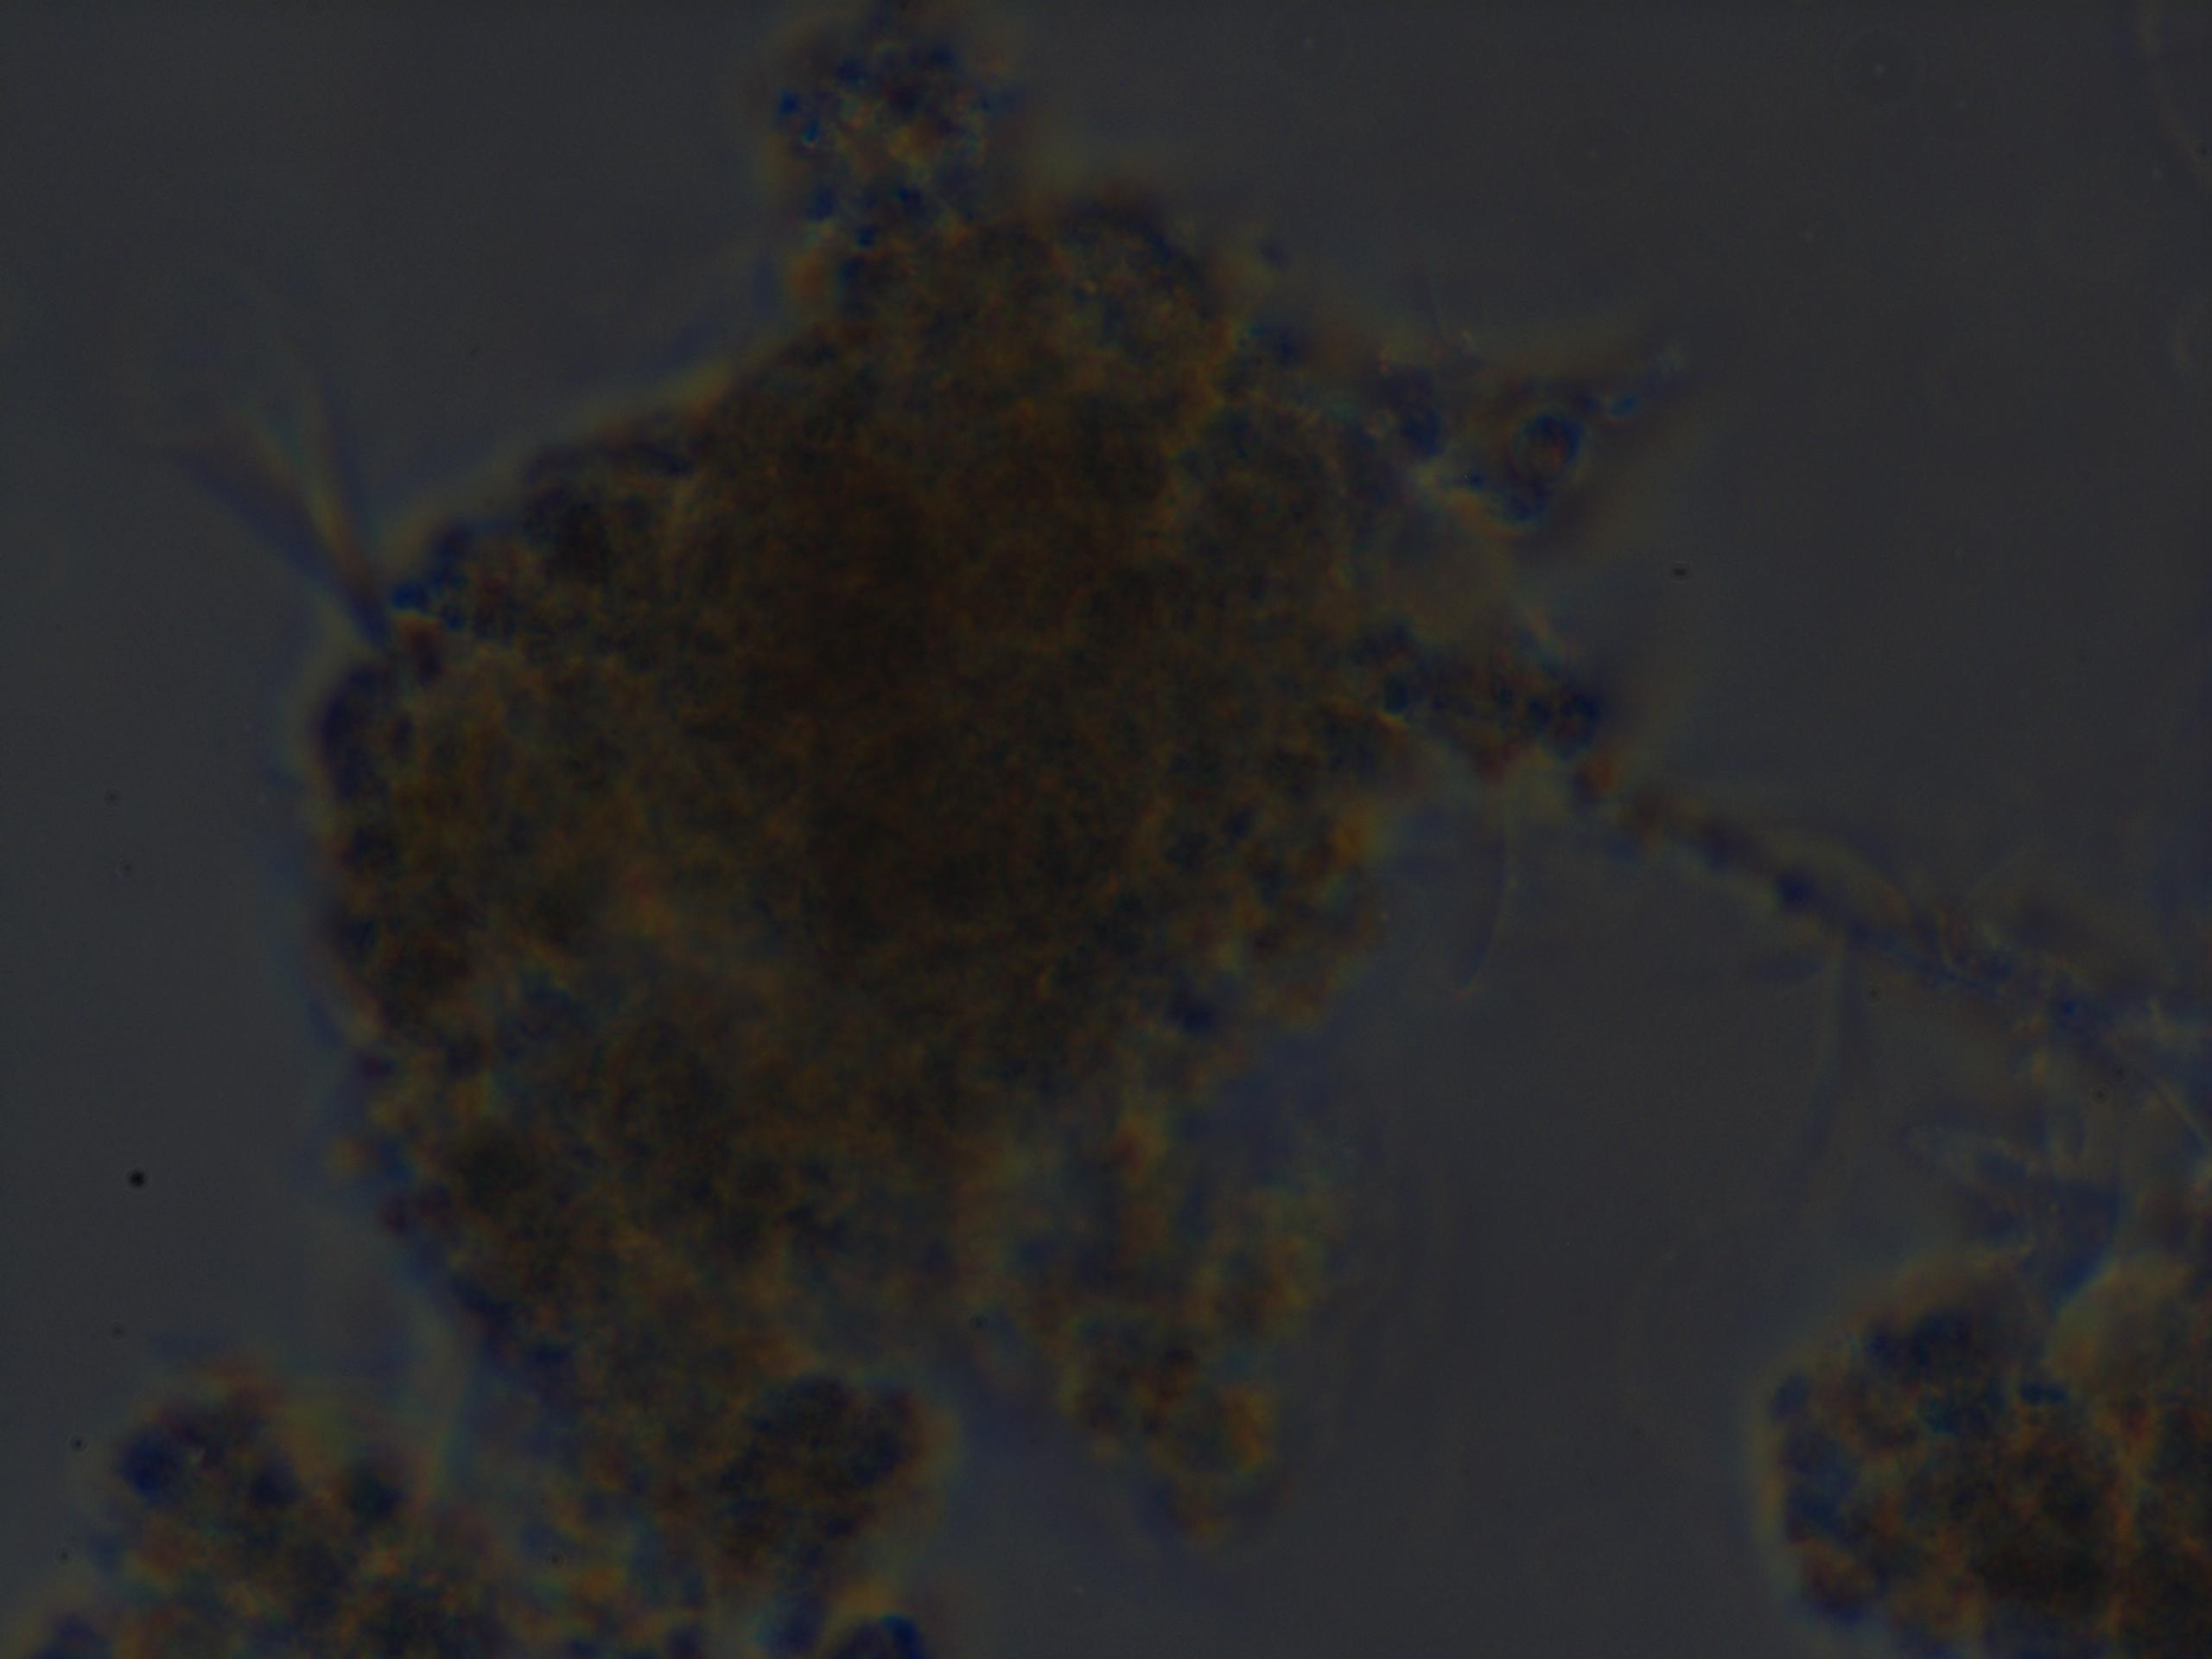filament: (1585, 688, 2189, 1133), (192, 401, 399, 647)
spherical_floc: (294, 30, 1618, 1534)
